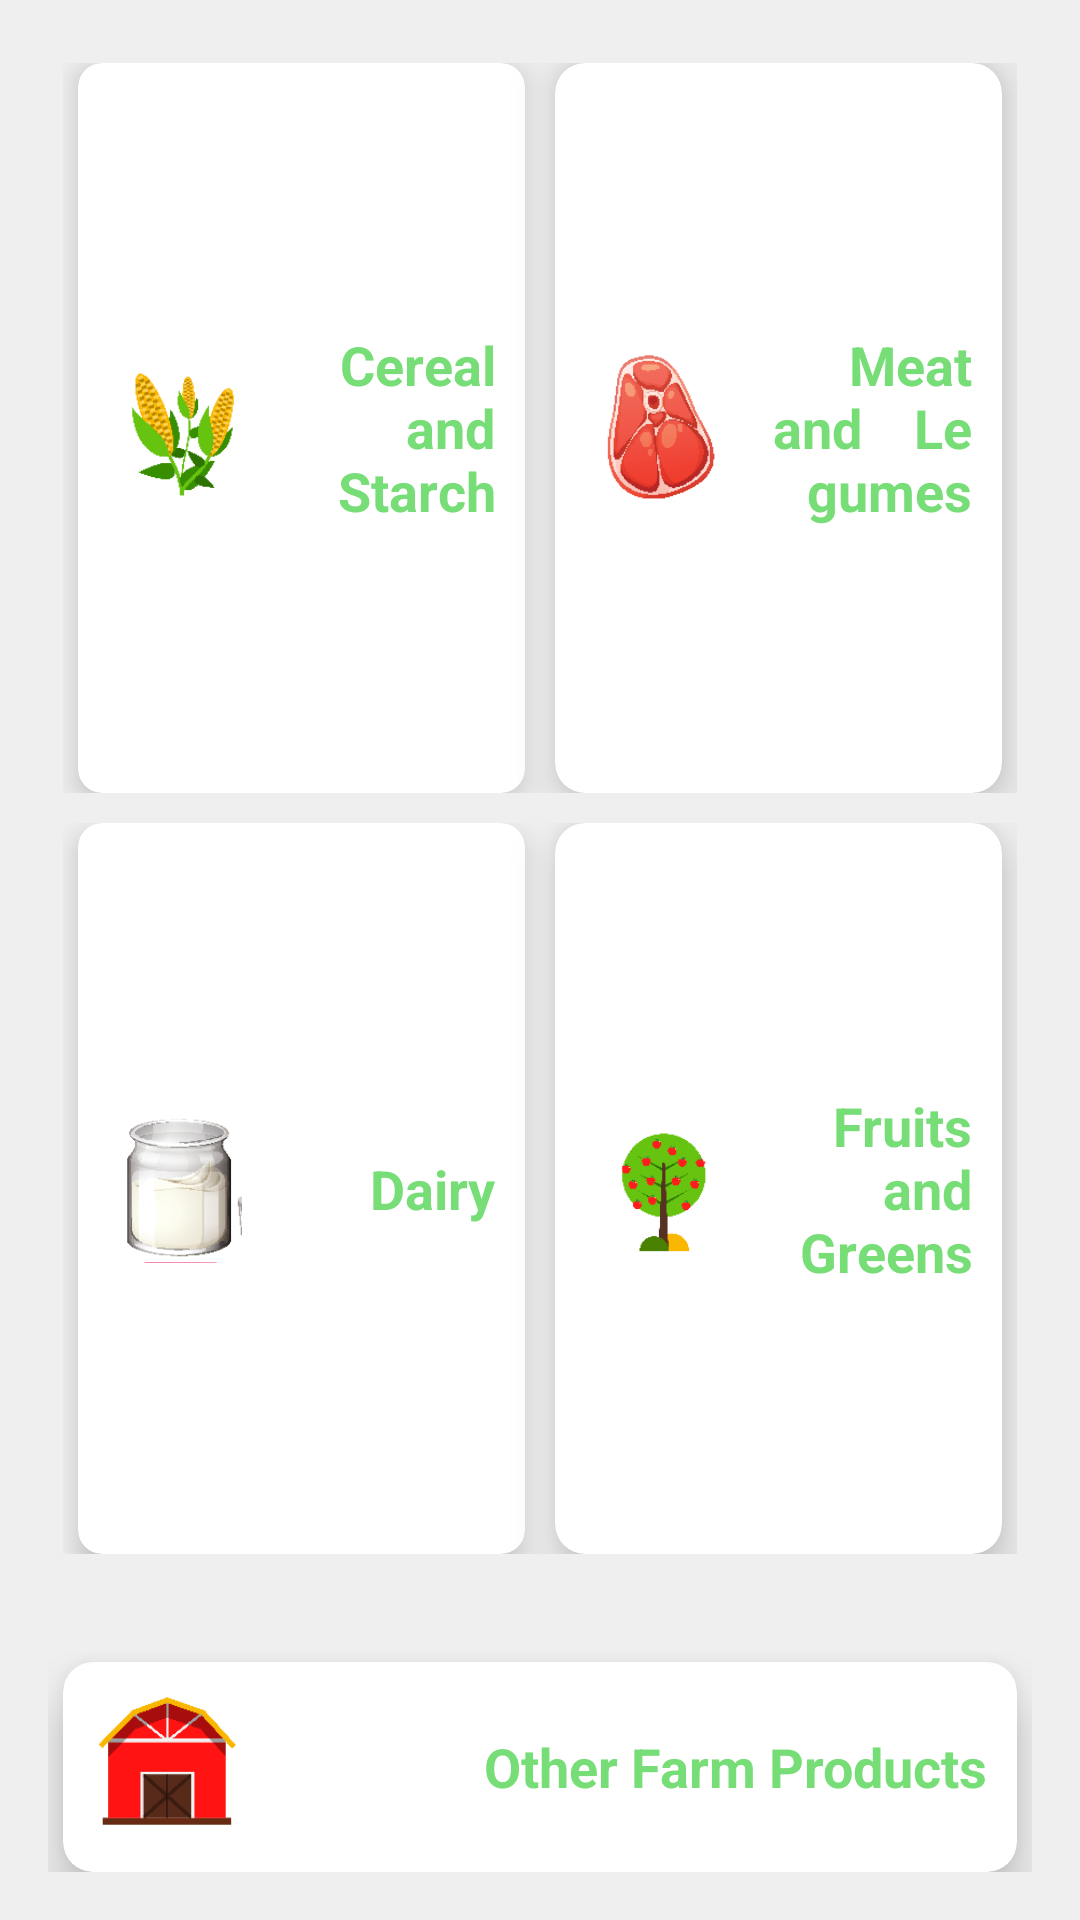

Where icons sit on this 1080w x 1920h app screen, as (x1, y1, x2, y2):
cereals: (131, 373, 234, 496)
meatpic: (607, 355, 715, 499)
milk: (127, 1119, 242, 1263)
